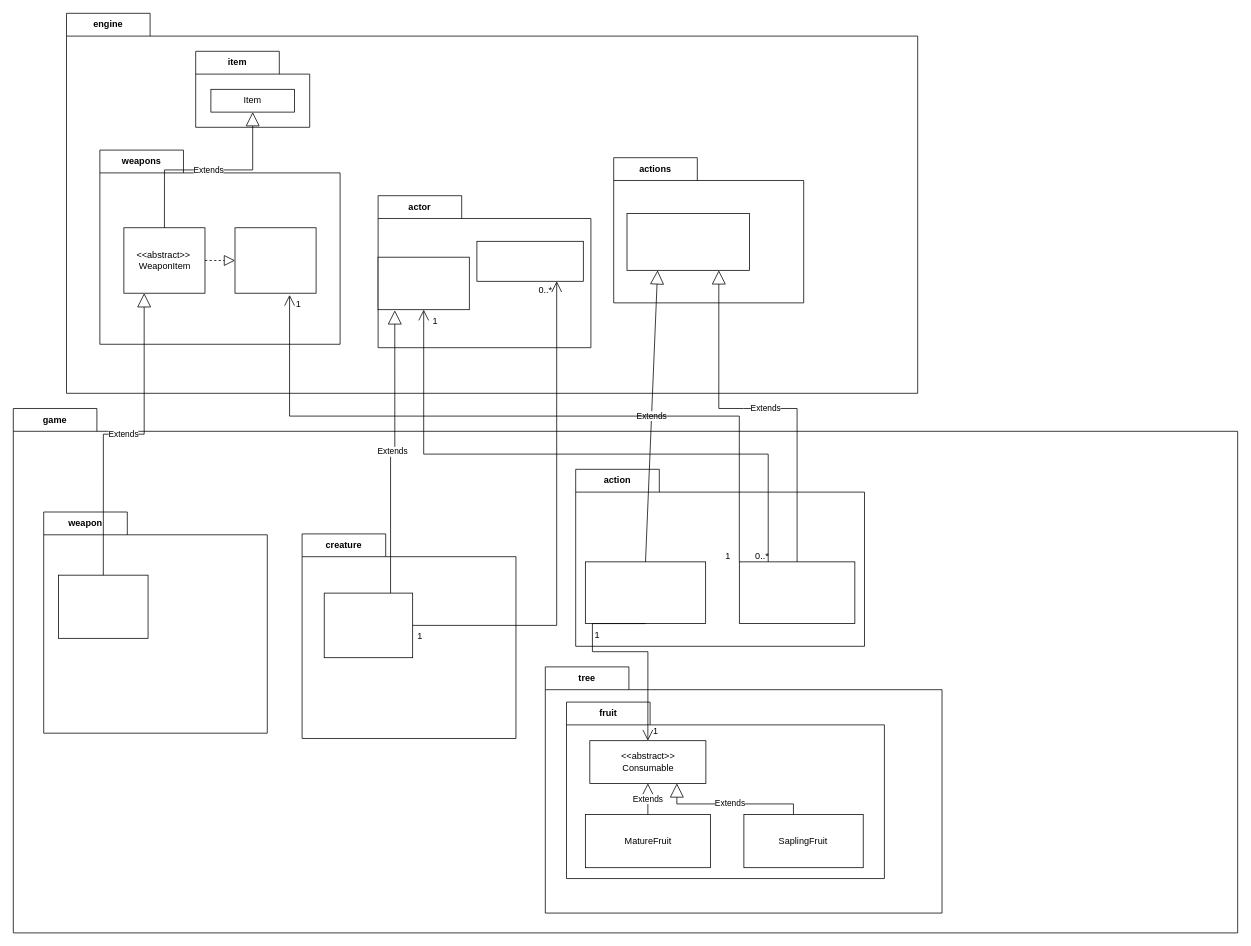
This 1251x946 diagram has some shape labels left out. The shapes that lost their labels are listed below. From the top down, each one's centre as x and y in pixels, then its label:
(x=275, y=260): <<interface>> Weapon
(x=529, y=261): <<interface> Behaviour
(x=687, y=241): <<abstract>> Action
(x=423, y=283): <<abstract>> Actor
(x=103, y=606): MetalPipe
(x=645, y=592): consumeFruitAction
(x=797, y=592): AttackAction
(x=368, y=625): HuntsmanSpider
